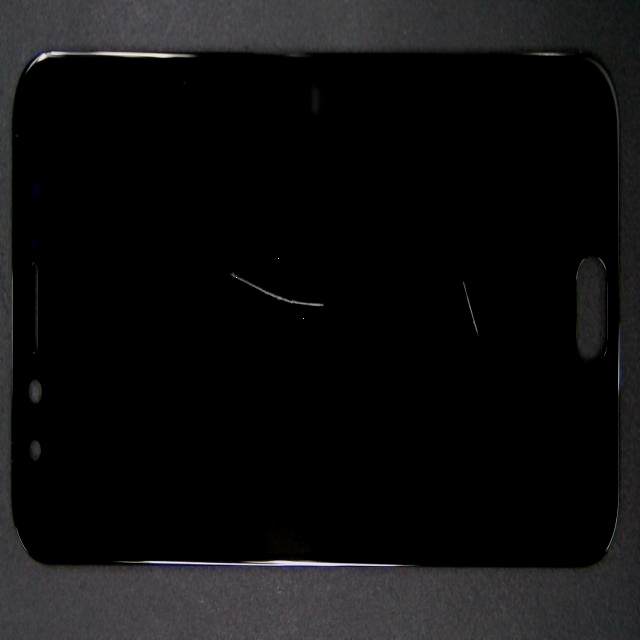scratch: (109, 141, 327, 423)
